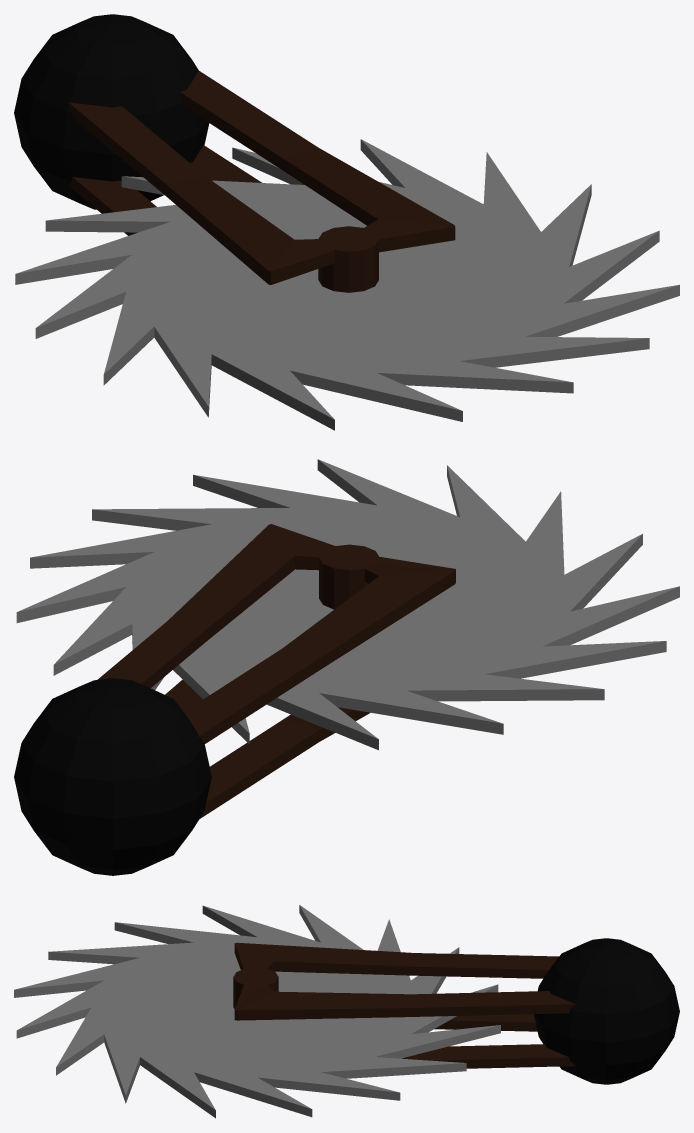
Rendered from chainsaw.glb.
3 renders of one model, top to bottom at view 1: azimuth 30°, elevation 25°; view 2: azimuth 150°, elevation 25°; view 3: azimuth 270°, elevation 25°, orthographic. The views are drawn at different scales.
Visible parts, largest first — view 1: Blade, Cylinder, Sphere; view 2: Blade, Cylinder, Sphere; view 3: Blade, Cylinder, Sphere.
Part boxes in pixels (x1,y1,x2,y2): Blade: (15,139,679,430); Cylinder: (68,70,455,292); Sphere: (14,14,209,209); Blade: (16,459,679,750); Cylinder: (97,524,455,818); Sphere: (14,678,211,875); Blade: (14,905,500,1118); Cylinder: (233,942,576,1068); Sphere: (534,938,679,1084).
Size of the model in its own units: 1.81 by 0.5468 by 2.48.
3 materials, 3 textured.
